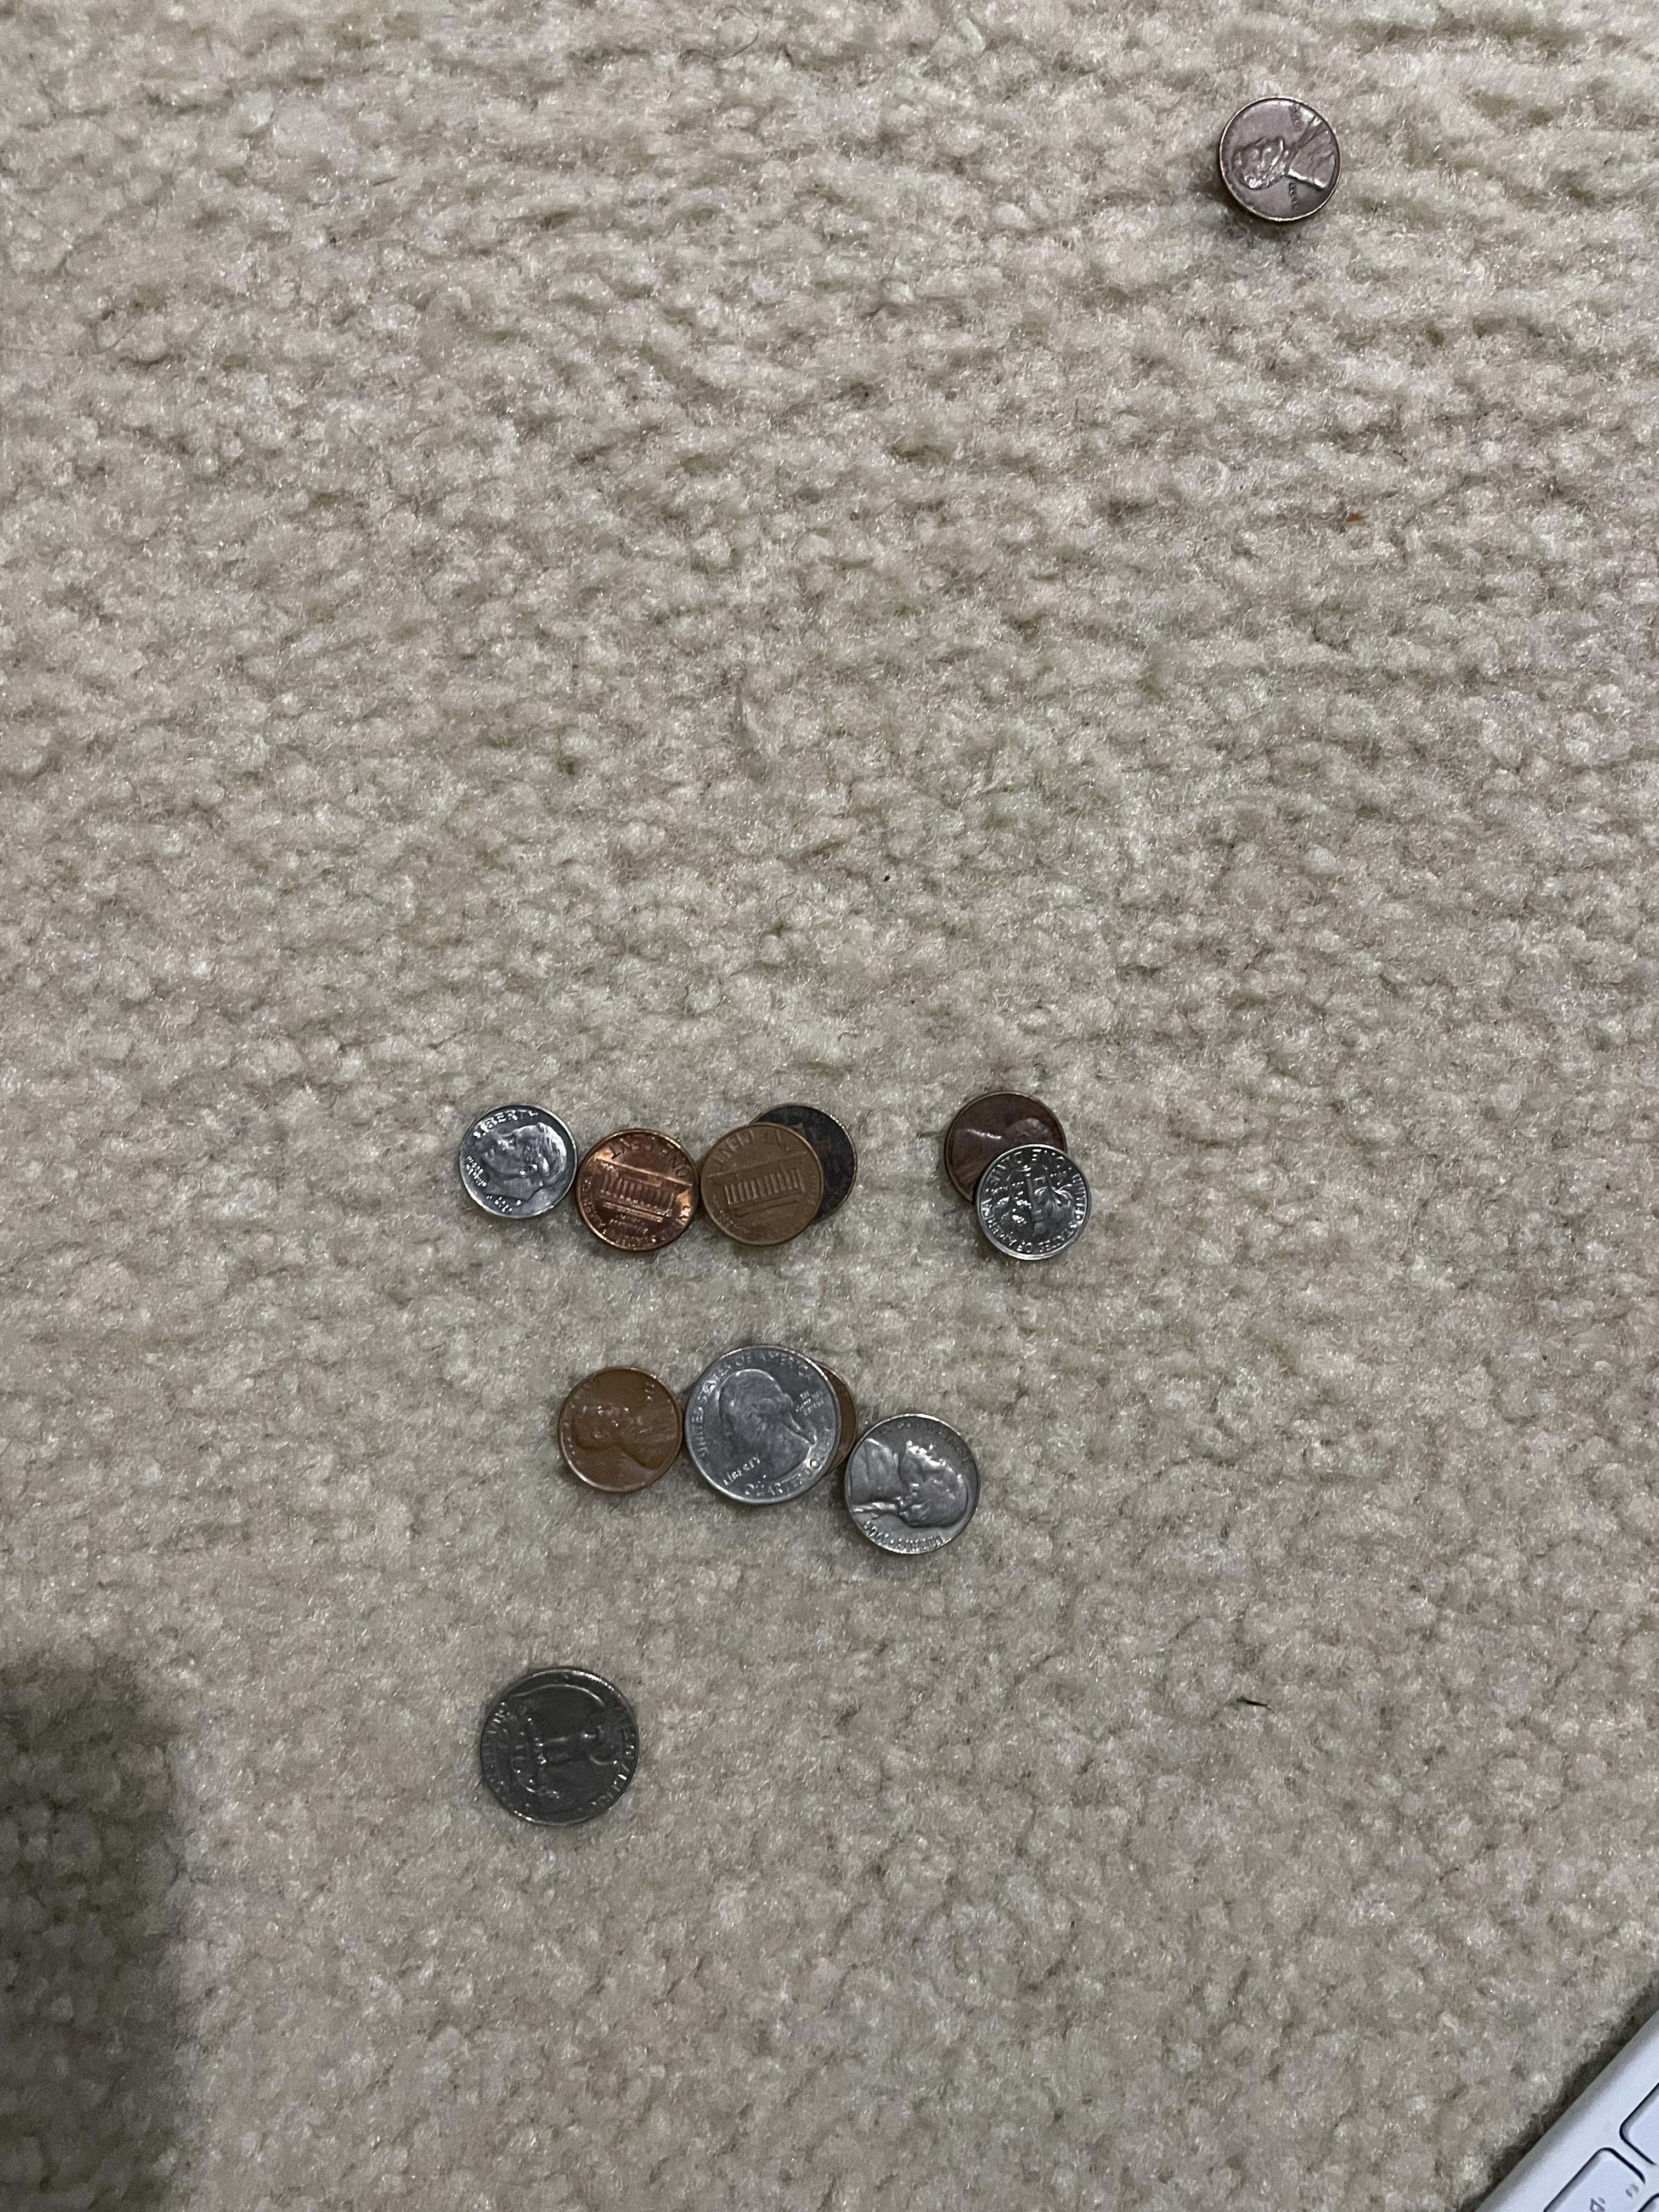Dime: (446, 1092, 575, 1226), (979, 1144, 1093, 1280)
Nickel: (835, 1416, 993, 1568)
Penny: (551, 1352, 690, 1515), (580, 1111, 694, 1266), (702, 1132, 840, 1259), (1220, 94, 1337, 235), (931, 1101, 1070, 1211)
Quarter: (697, 1343, 845, 1531), (483, 1667, 645, 1838)
